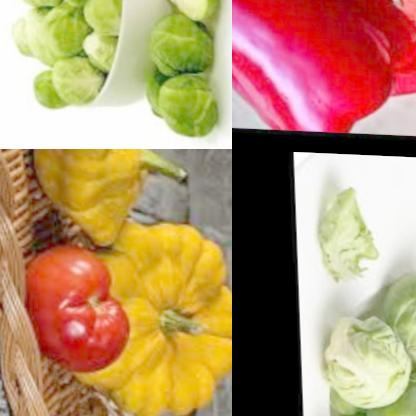bell pepper: (232, 0, 394, 133), (286, 0, 416, 106)
brus capusta: (3, 0, 146, 112), (131, 0, 224, 146), (297, 180, 394, 293), (311, 314, 416, 416), (391, 261, 416, 356)
squash-patisson: (74, 206, 232, 416), (37, 149, 174, 249)
tomato: (18, 235, 136, 381)
